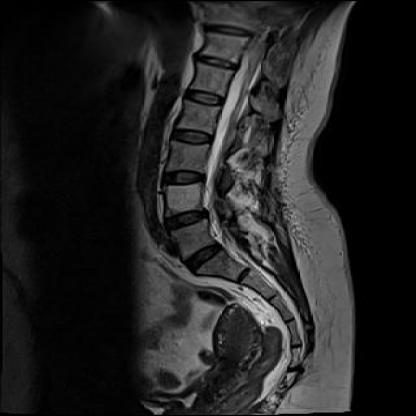Disc Relaxationrotation: (160, 206, 214, 231)
